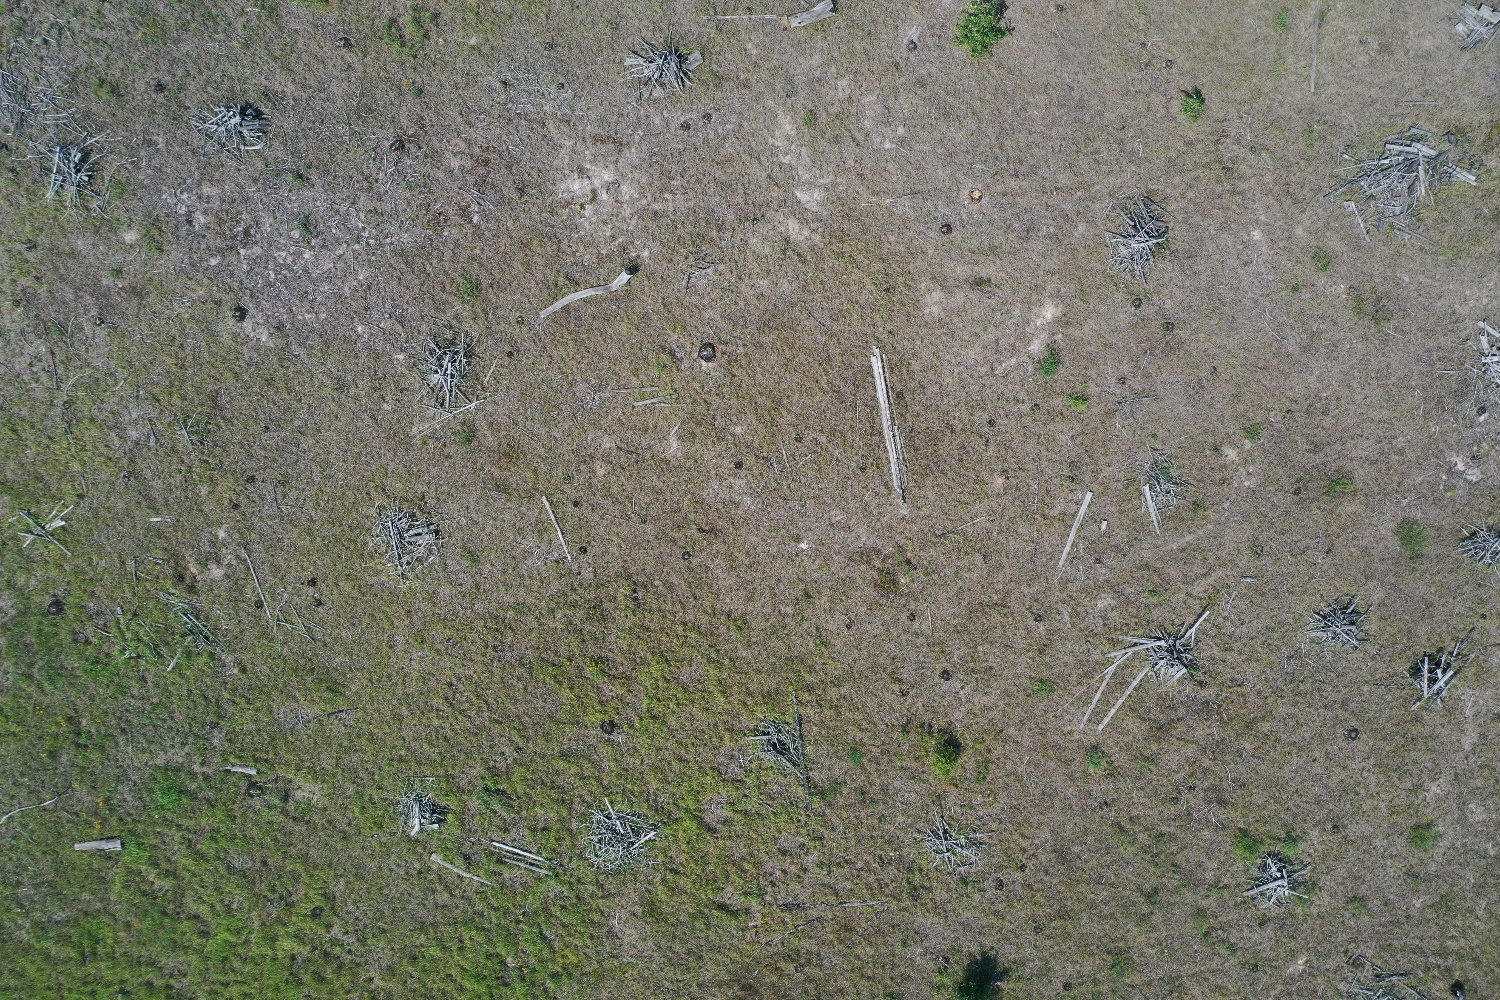branches: (1324, 127, 1449, 242), (1102, 190, 1171, 283), (618, 31, 705, 100), (578, 796, 658, 871), (368, 503, 448, 569), (190, 100, 271, 162), (419, 330, 479, 413), (1241, 850, 1314, 908), (38, 131, 100, 198), (914, 816, 983, 874), (744, 714, 804, 780), (1304, 595, 1374, 650), (1408, 640, 1468, 699), (397, 789, 456, 838), (1148, 627, 1198, 686), (1456, 523, 1500, 566)
